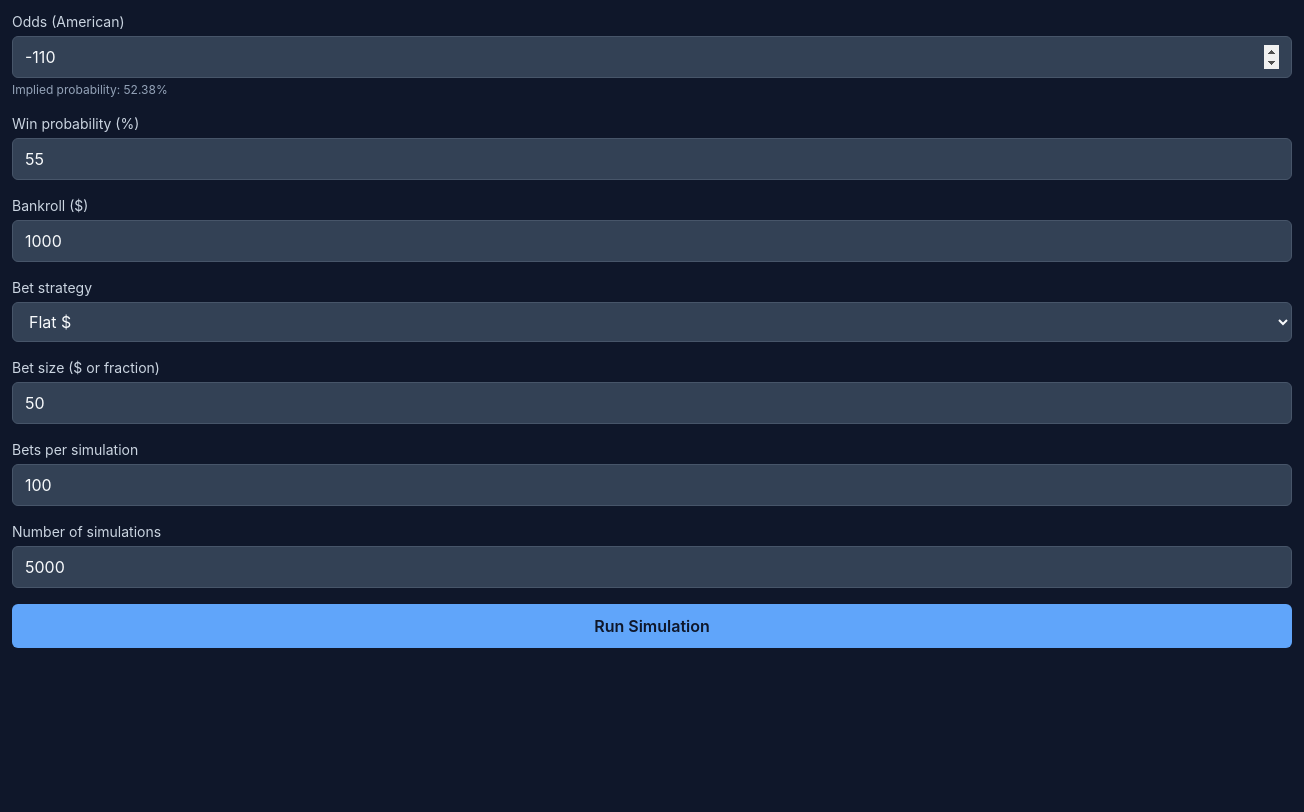
SimulationForm › rejects win probability outside 0-100%
The width and height of the screenshot is (1304, 812).
Replace the text in the number field labelled "Win probability (%)" with "150" at (652, 159), box [12,138,1292,180]
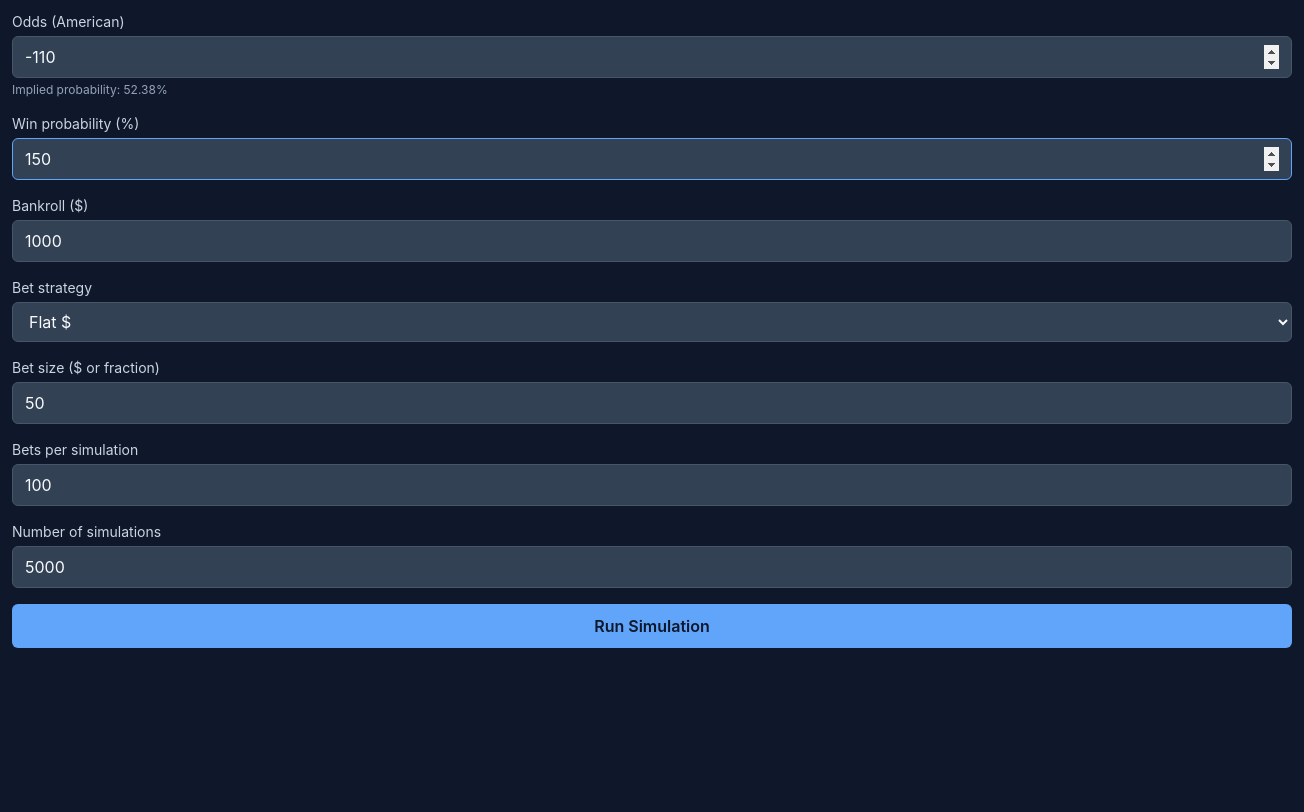
Click the button "Run Simulation" at (652, 626), box [12,604,1292,648]
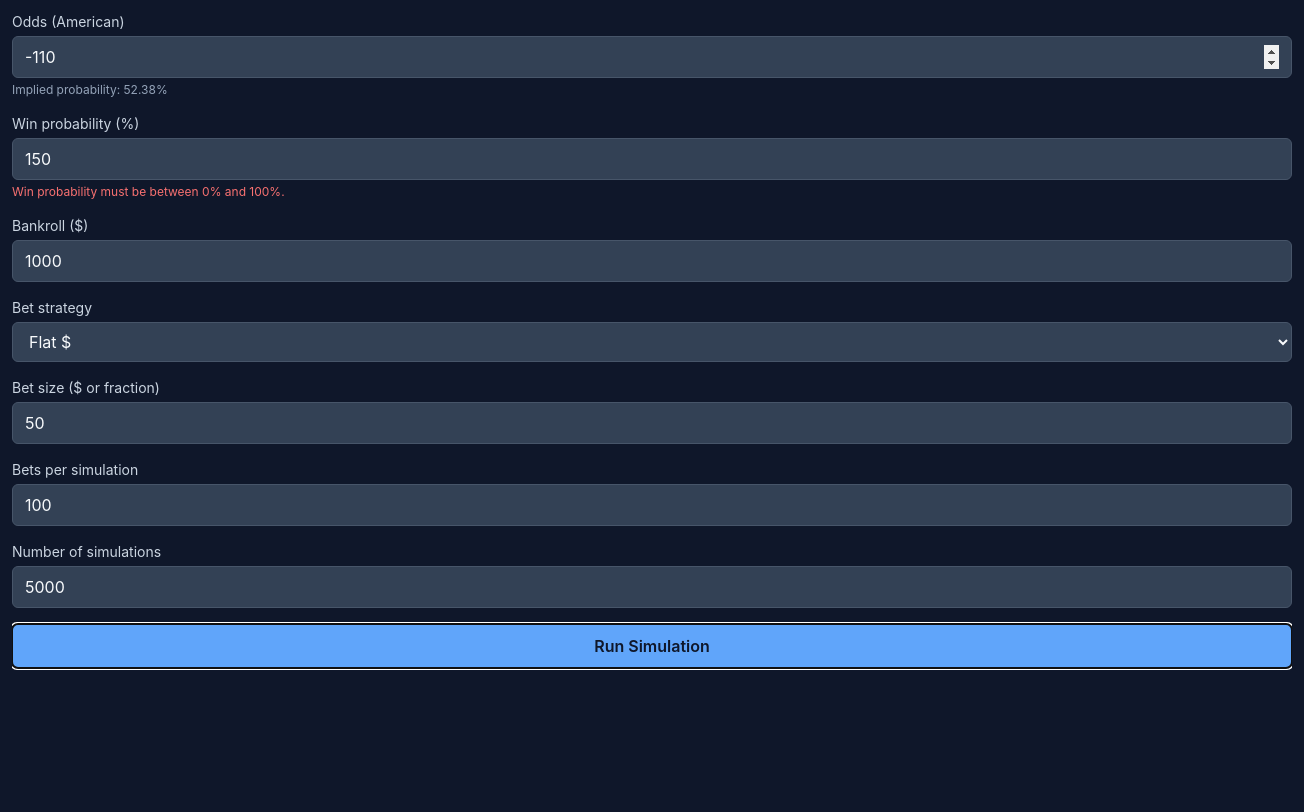
Expected: the text "Win probability must be between 0% and 100%." is shown, [12,184,285,199]
